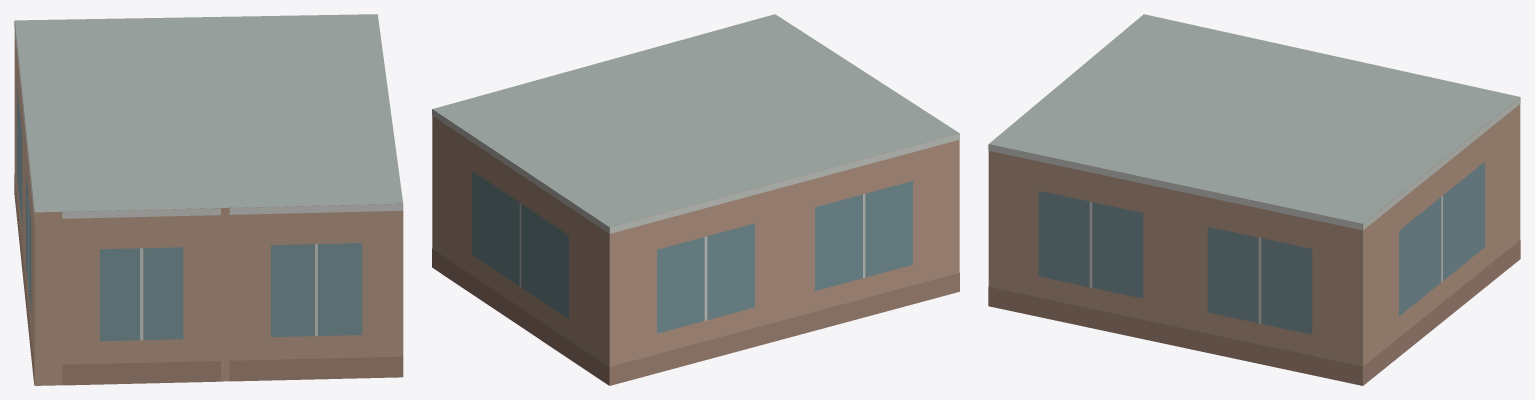
Rendered from survey-upis-32486806.glb.
The picture shows the model from 3 angles, left to right: view 1: azimuth 30°, elevation 25°; view 2: azimuth 150°, elevation 25°; view 3: azimuth 270°, elevation 25°; orthographic projection. The views are drawn at different scales.
Parts seen in each view (by area): view 1: survey-upis-32486806.tmp; view 2: survey-upis-32486806.tmp; view 3: survey-upis-32486806.tmp.
Part boxes in pixels (x1,y1,x2,y2): survey-upis-32486806.tmp: [14, 14, 403, 385]; survey-upis-32486806.tmp: [432, 14, 959, 385]; survey-upis-32486806.tmp: [988, 14, 1520, 385].
Bounding box in the file's own units: 8.48 × 3.05 × 9.09.
